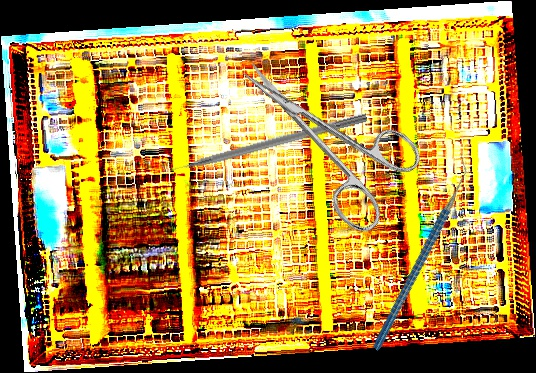Chopper: (319, 154, 520, 351)
Iris Scissors: (213, 25, 435, 240)
Pusher: (158, 110, 368, 178)
